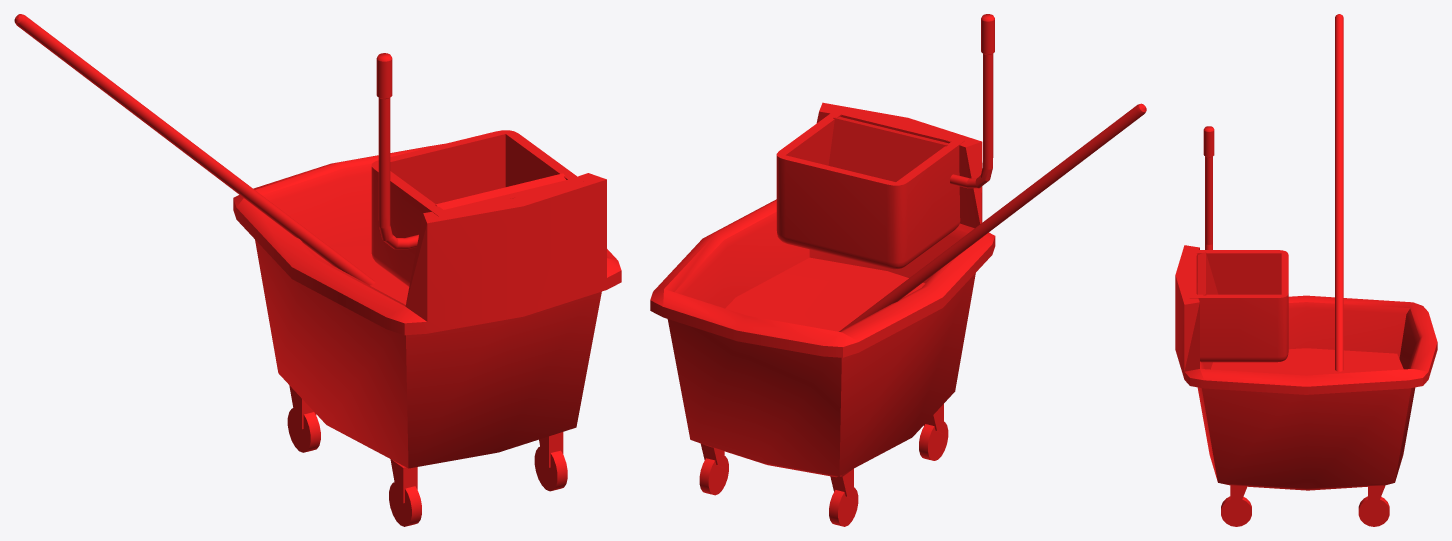
File: MopBucket.fbx
3 renders of one model, left to right at view 1: azimuth 30°, elevation 25°; view 2: azimuth 150°, elevation 25°; view 3: azimuth 270°, elevation 25°, orthographic. The views are drawn at different scales.
Parts seen in each view (by area): view 1: Mop_Bucket; view 2: Mop_Bucket; view 3: Mop_Bucket.
Part boxes in pixels (x1,y1,x2,y2): Mop_Bucket: [14, 14, 621, 526]; Mop_Bucket: [650, 14, 1146, 526]; Mop_Bucket: [1175, 14, 1437, 526].
Size of the model in its own units: 125 by 121 by 79.78.
